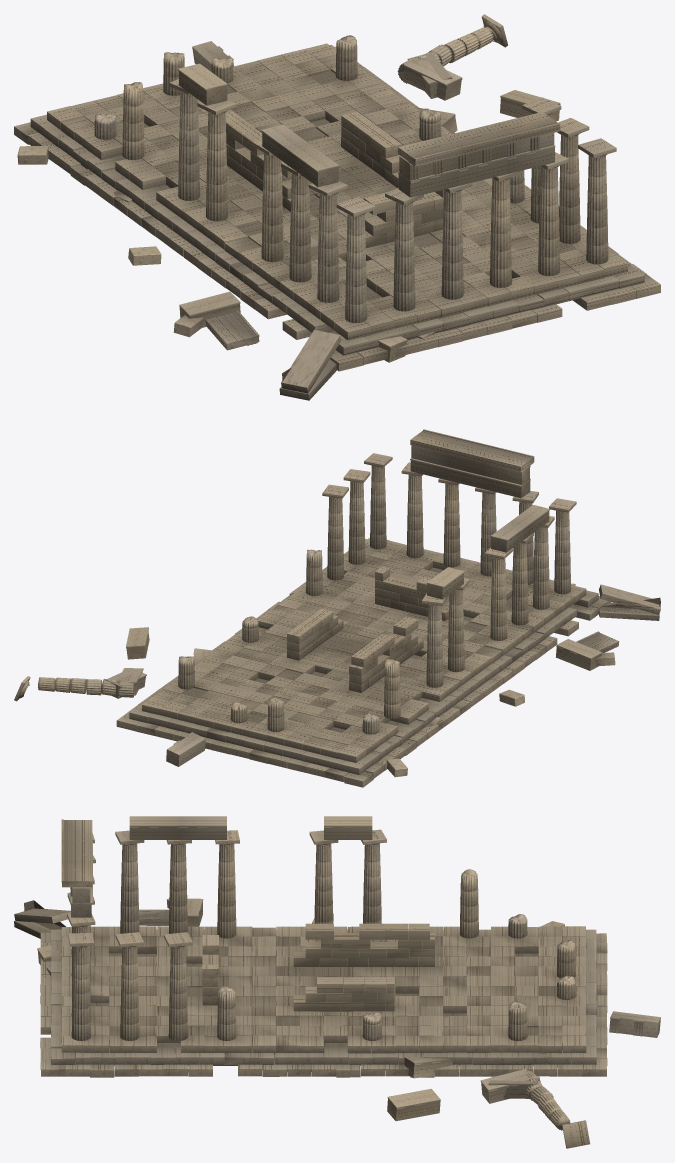
The model's file is temple_ruin.glb.
3 views of the same model, one above another, from view 1: azimuth 30°, elevation 25°; view 2: azimuth 150°, elevation 25°; view 3: azimuth 270°, elevation 25° (orthographic). The views are drawn at different scales.
Visible parts, largest first — view 1: temple_ruin; view 2: temple_ruin; view 3: temple_ruin.
Part boxes in pixels (x1,y1,x2,y2): temple_ruin: [14, 14, 660, 400]; temple_ruin: [14, 429, 660, 787]; temple_ruin: [14, 816, 660, 1148].
Bounding box in the file's own units: 27.69 × 9.17 × 32.01.
1 material, 1 textured.
